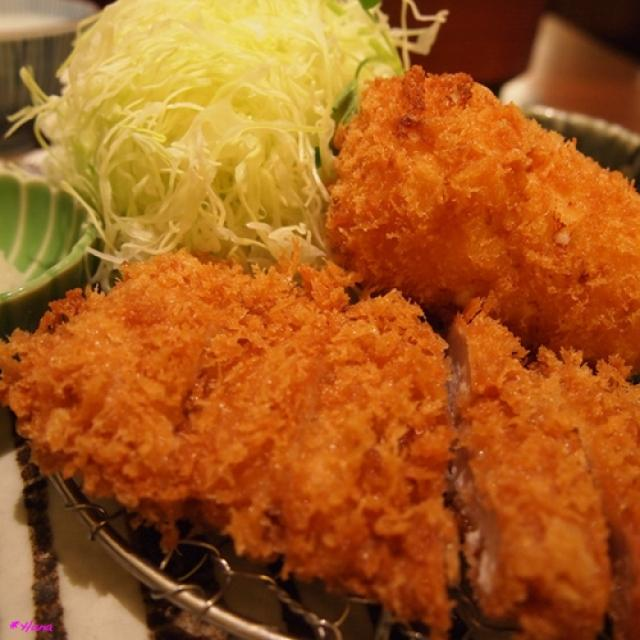牛肉菜式: (11, 50, 634, 623)
